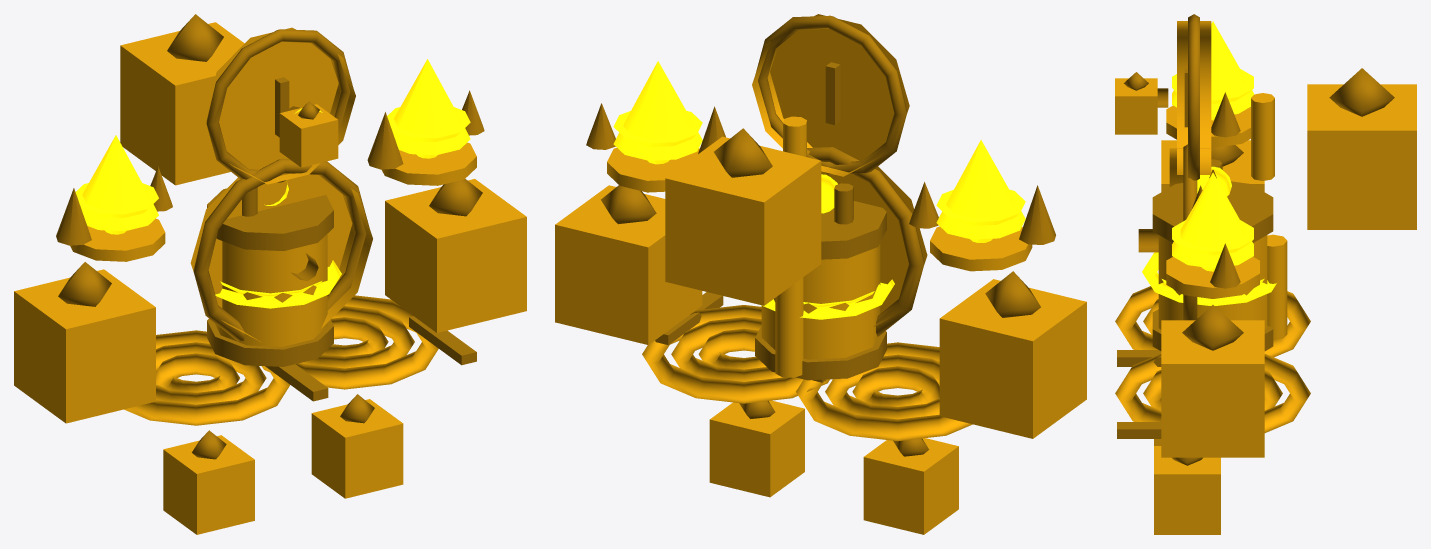
File: golem_107.glb
3 views of the same model, side by side, from view 1: azimuth 30°, elevation 25°; view 2: azimuth 150°, elevation 25°; view 3: azimuth 270°, elevation 25° (orthographic). The views are drawn at different scales.
Visible parts, largest first — view 1: Body, Detail, Glow; view 2: Body, Detail, Glow; view 3: Body, Detail, Glow.
Boxes of the visible parts, left/top/right/bottom form: Body: left=14, top=22, right=526, bottom=534; Detail: left=56, top=14, right=484, bottom=459; Glow: left=75, top=59, right=470, bottom=308; Body: left=555, top=14, right=1086, bottom=534; Detail: left=586, top=15, right=1055, bottom=456; Glow: left=613, top=61, right=1025, bottom=319; Body: left=1115, top=21, right=1416, bottom=534; Detail: left=1117, top=14, right=1394, bottom=465; Glow: left=1142, top=21, right=1276, bottom=305.
Bounding box in the file's own units: 1.29 × 1.25 × 0.7369.
